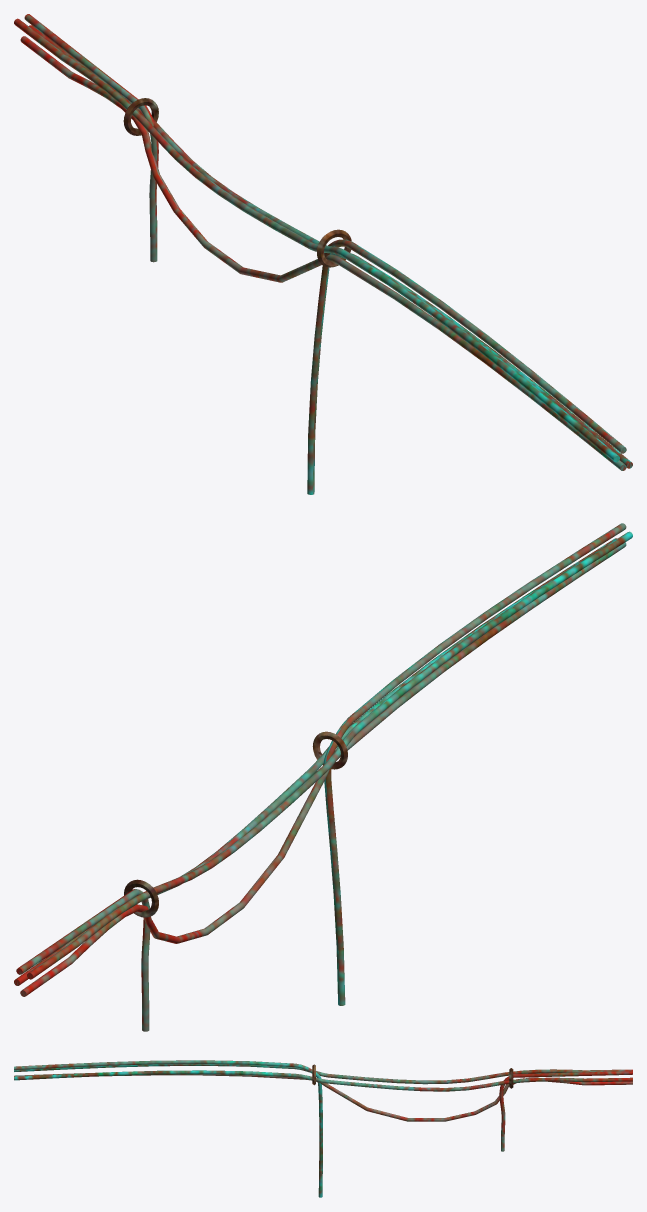
File: cable3.FBX
3 views of the same model, one above another, from view 1: azimuth 30°, elevation 25°; view 2: azimuth 150°, elevation 25°; view 3: azimuth 270°, elevation 25° (orthographic). The views are drawn at different scales.
Visible parts, largest first — view 1: Line009, Line007, Line010, Line008, Line011; view 2: Line009, Line007, Line010, Line008, Line011; view 3: Line008, Line009, Line010, Line007, Line011.
Boxes of the visible parts, bbox=[...] form: Line009: bbox=[14, 18, 619, 462]; Line007: bbox=[20, 36, 626, 470]; Line010: bbox=[307, 239, 626, 494]; Line008: bbox=[28, 25, 632, 468]; Line011: bbox=[24, 14, 158, 262]; Line009: bbox=[27, 531, 632, 979]; Line007: bbox=[20, 542, 626, 996]; Line010: bbox=[323, 523, 626, 1005]; Line008: bbox=[14, 538, 617, 985]; Line011: bbox=[16, 889, 150, 1031]; Line008: bbox=[14, 1070, 632, 1091]; Line009: bbox=[14, 1064, 632, 1084]; Line010: bbox=[14, 1060, 322, 1197]; Line007: bbox=[14, 1073, 632, 1121]; Line011: bbox=[499, 1071, 632, 1151].
Size of the model in its own units: 11.4 by 77.75 by 310.
Materials: 1 (1 with a texture image).
